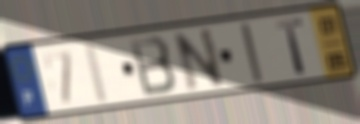7: (43, 49, 74, 106)
B: (126, 34, 179, 99)
I: (82, 40, 112, 107), (237, 20, 266, 86)
N: (171, 26, 227, 94)
T: (273, 16, 308, 76)
